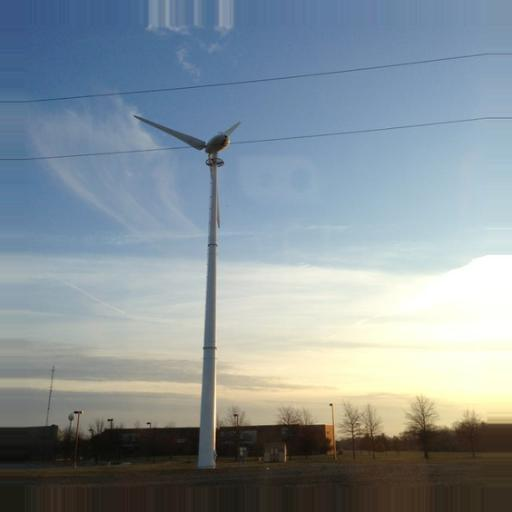wind turbine: (132, 115, 244, 464)
